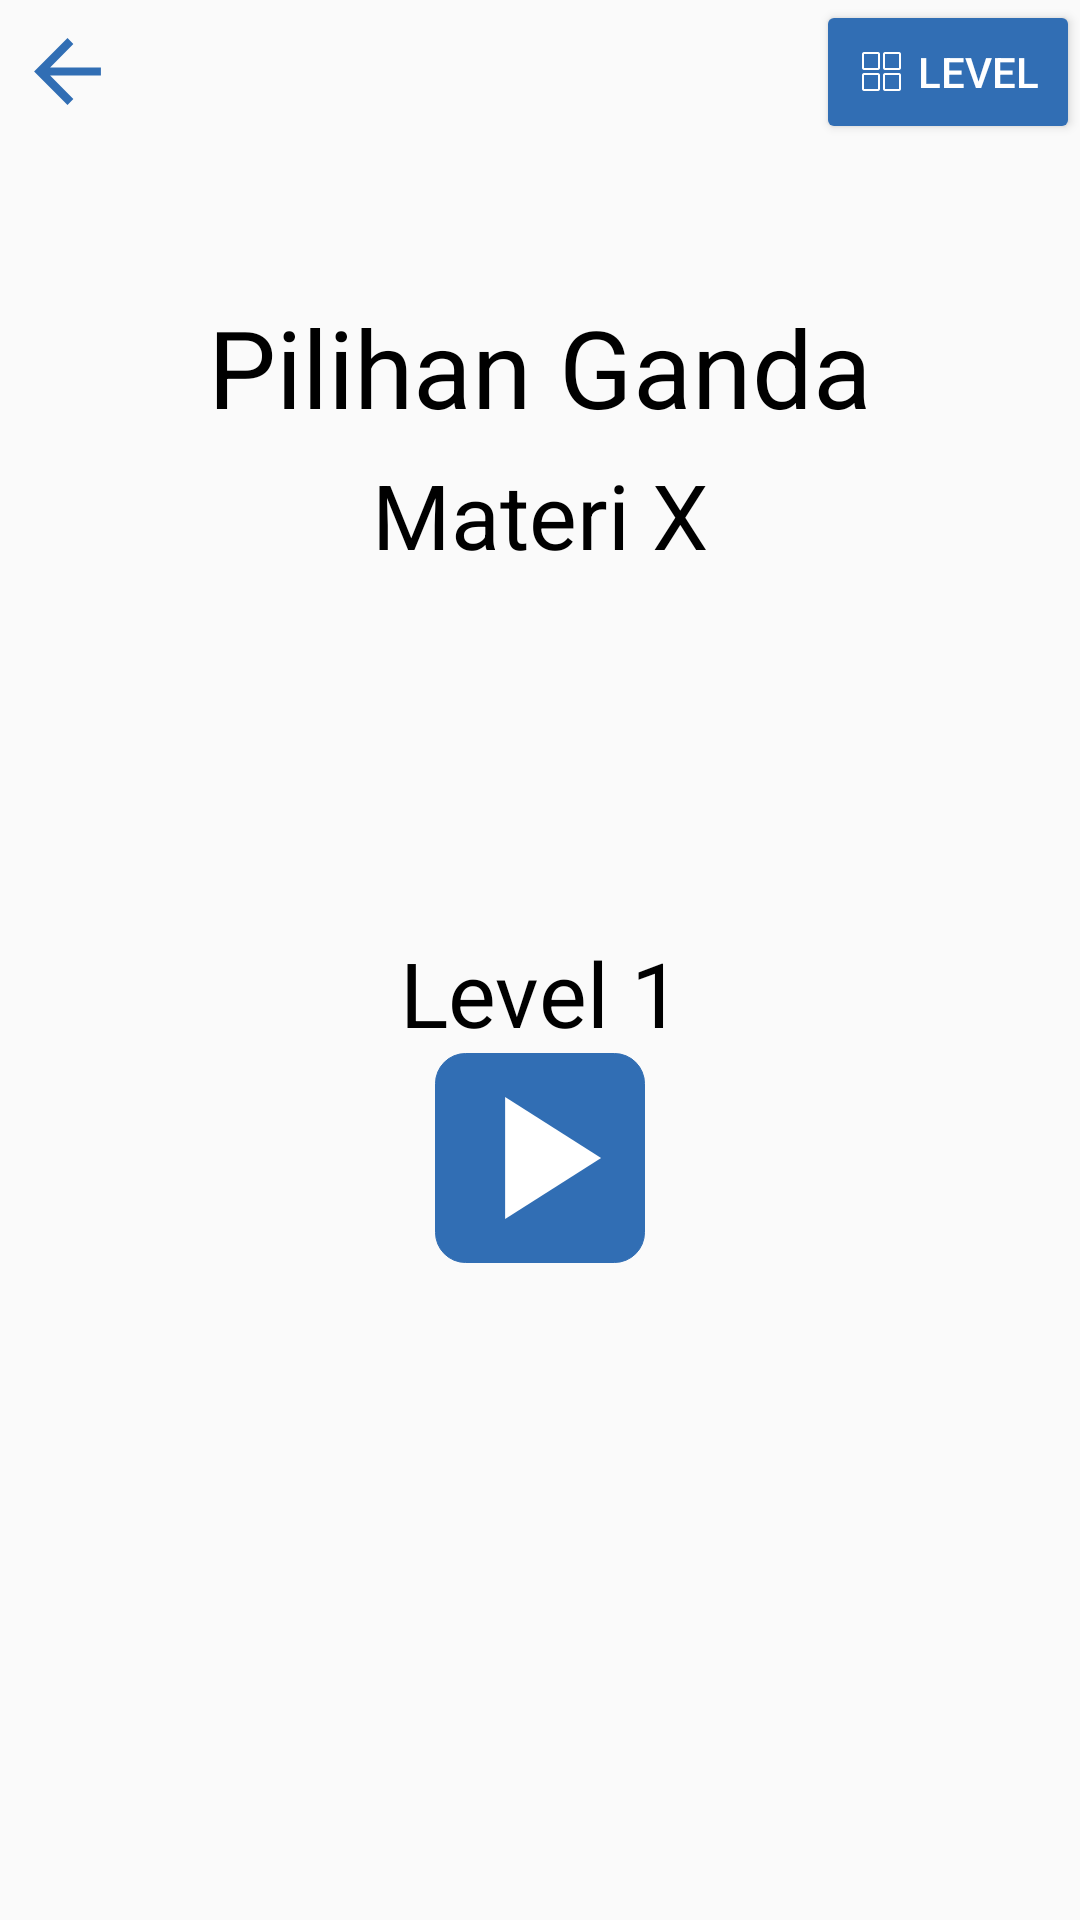

Screen size 1080 x 1920. Icon name, then its center in pixels as [x,y]:
arrow back: [67,71]
play arrow: [540,1158]
